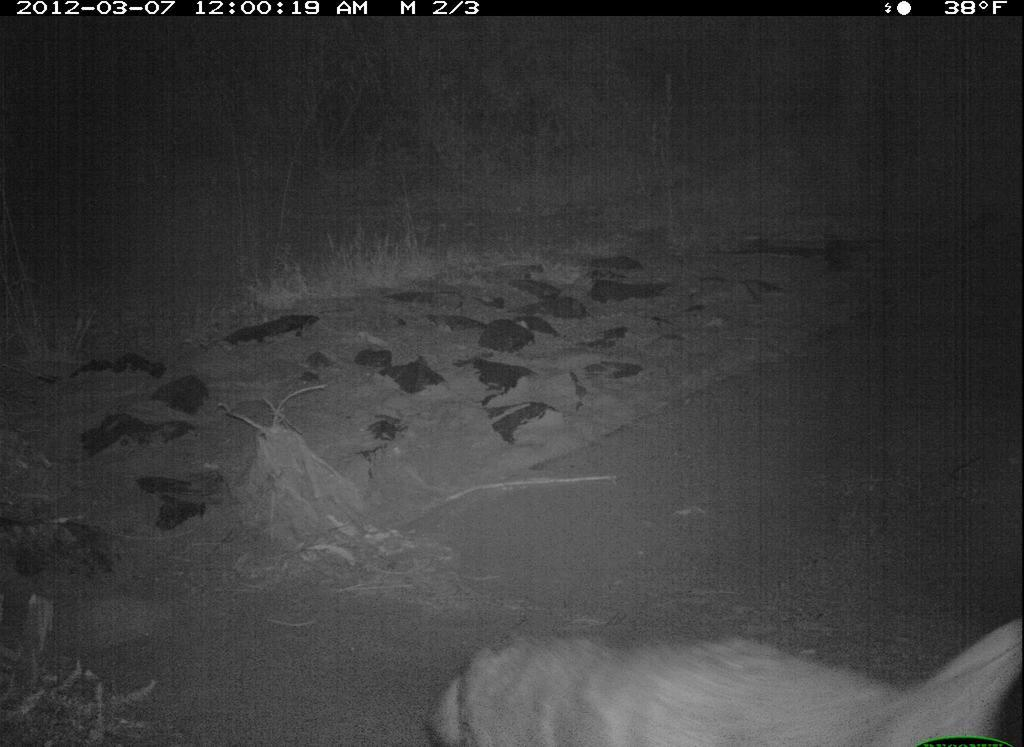coyote: (399, 588, 1023, 747)
